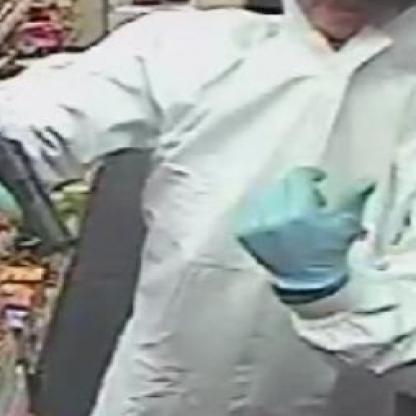gun: (0, 125, 76, 264)
